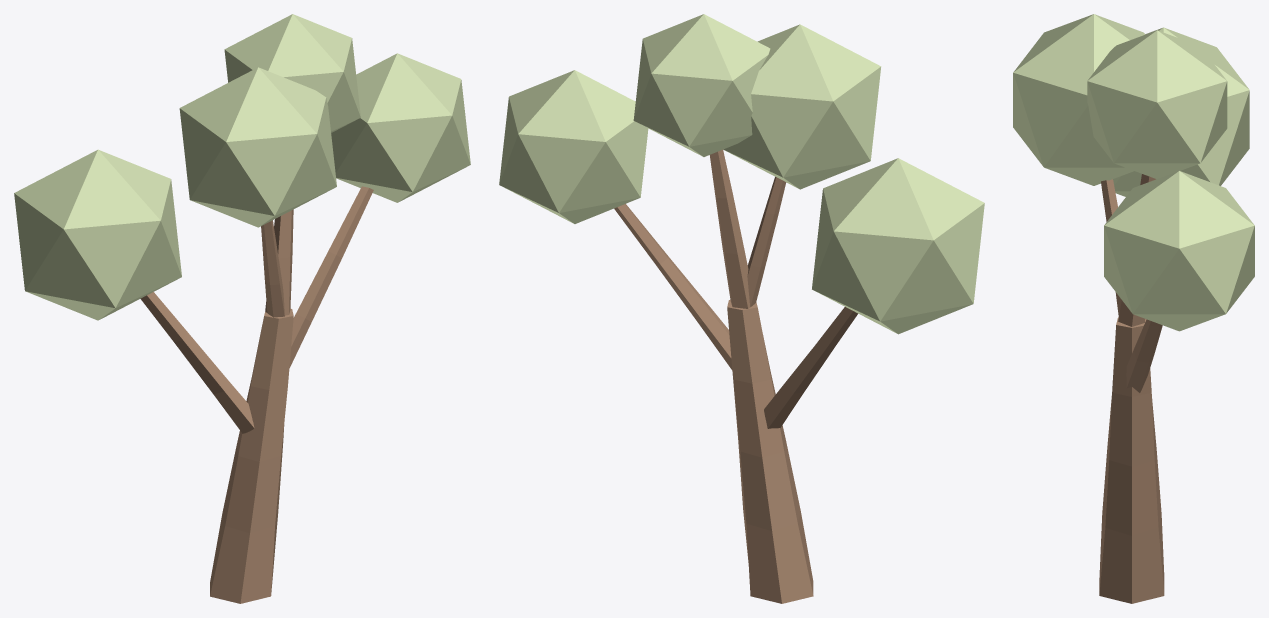
The model's file is 01_Tree_Small.glb.
3 views of the same model, side by side, from view 1: azimuth 30°, elevation 25°; view 2: azimuth 150°, elevation 25°; view 3: azimuth 270°, elevation 25° (orthographic). The views are drawn at different scales.
Parts seen in each view (by area): view 1: Tree_Small_Foliage1, Tree_Small_Foliage3, Tree_Small_Foliage2, Tree_Small_Trunk, Tree_Small_Foliage4, Tree_Small_Branch1, Tree_Small_Branch2, Tree_Small_Branch3, Tree_Small_Branch4; view 2: Tree_Small_Foliage1, Tree_Small_Foliage2, Tree_Small_Foliage3, Tree_Small_Trunk, Tree_Small_Foliage4, Tree_Small_Branch2, Tree_Small_Branch4, Tree_Small_Branch1, Tree_Small_Branch3; view 3: Tree_Small_Foliage2, Tree_Small_Foliage4, Tree_Small_Trunk, Tree_Small_Foliage3, Tree_Small_Foliage1, Tree_Small_Branch2, Tree_Small_Branch3, Tree_Small_Branch4.
Boxes of the visible parts, x1,y1,x2,y2 form: Tree_Small_Foliage1: [14, 149, 181, 320]; Tree_Small_Foliage3: [179, 67, 336, 227]; Tree_Small_Foliage2: [331, 53, 470, 202]; Tree_Small_Trunk: [210, 308, 293, 603]; Tree_Small_Foliage4: [224, 14, 360, 132]; Tree_Small_Branch1: [140, 292, 254, 433]; Tree_Small_Branch2: [289, 186, 373, 368]; Tree_Small_Branch3: [261, 220, 285, 317]; Tree_Small_Branch4: [265, 209, 293, 315]; Tree_Small_Foliage1: [812, 158, 984, 334]; Tree_Small_Foliage2: [499, 70, 648, 223]; Tree_Small_Foliage3: [723, 24, 881, 189]; Tree_Small_Trunk: [727, 300, 813, 603]; Tree_Small_Foliage4: [633, 14, 770, 156]; Tree_Small_Branch2: [614, 204, 732, 369]; Tree_Small_Branch4: [709, 149, 749, 308]; Tree_Small_Branch1: [764, 307, 857, 428]; Tree_Small_Branch3: [747, 177, 786, 307]; Tree_Small_Foliage2: [1104, 171, 1254, 331]; Tree_Small_Foliage4: [1087, 30, 1227, 179]; Tree_Small_Trunk: [1099, 317, 1164, 603]; Tree_Small_Foliage3: [1013, 14, 1144, 185]; Tree_Small_Foliage1: [1113, 27, 1249, 196]; Tree_Small_Branch2: [1126, 319, 1162, 392]; Tree_Small_Branch3: [1101, 179, 1121, 316]; Tree_Small_Branch4: [1118, 174, 1155, 326].
Bounding box in the file's own units: 1.74 × 2.06 × 0.7634.
